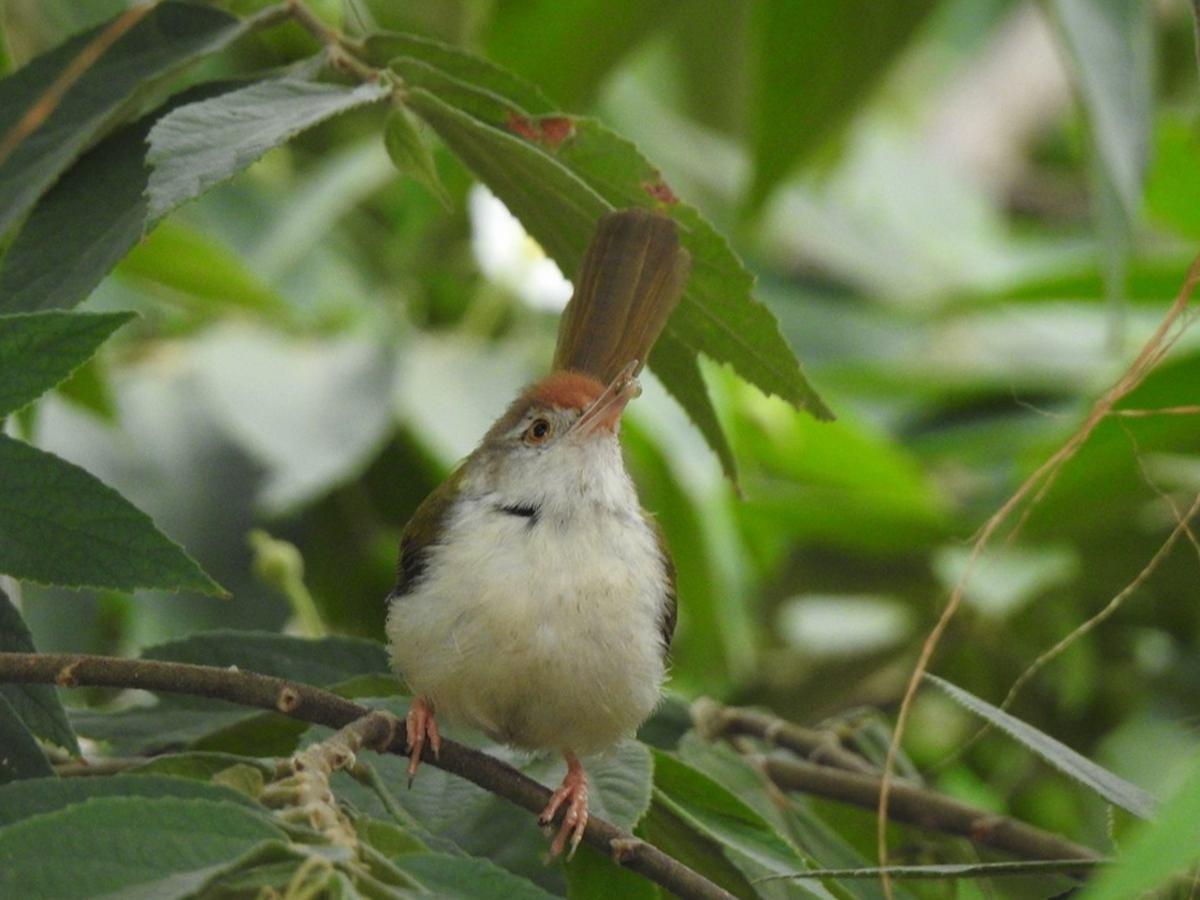tailorbird: (377, 293, 741, 764)
